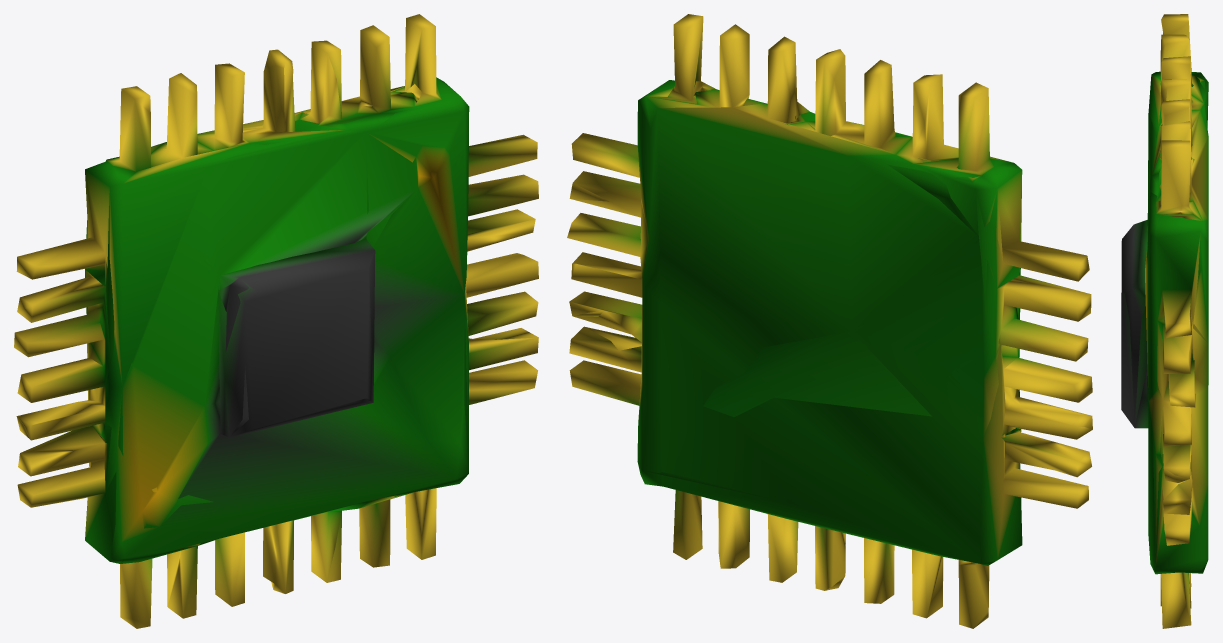
File: gen3d-microchip-lod1.glb
3 views of the same model, side by side, from view 1: azimuth 30°, elevation 25°; view 2: azimuth 150°, elevation 25°; view 3: azimuth 270°, elevation 25° (orthographic). The views are drawn at different scales.
Visible parts, largest first — view 1: part_0; view 2: part_0; view 3: part_0.
Boxes of the visible parts, x1,y1,x2,y2 form: part_0: (14, 14, 538, 628); part_0: (567, 14, 1092, 628); part_0: (1121, 14, 1208, 628).
Bounding box in the file's own units: 0.9986 × 0.9985 × 0.1637.
